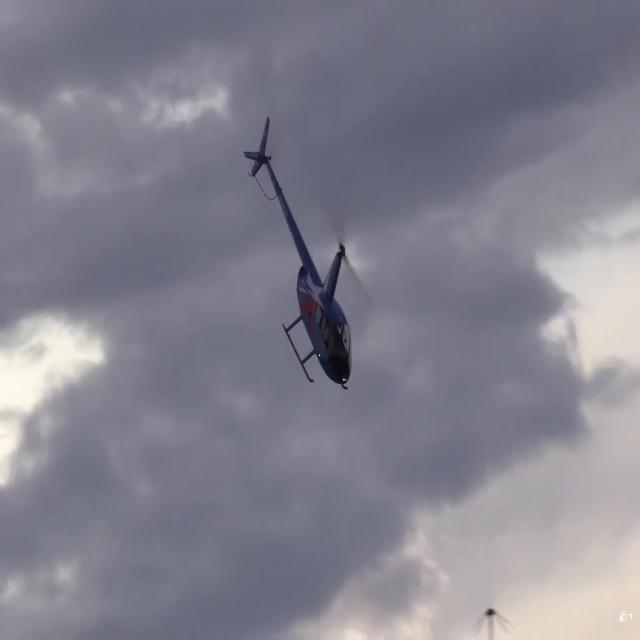CIV_HELO: (244, 114, 356, 389)
